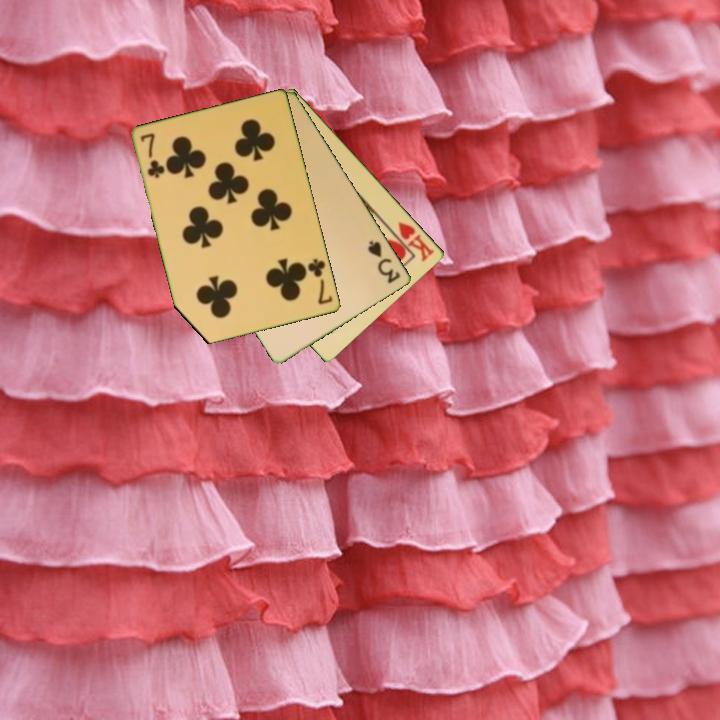3s: (364, 237, 404, 286)
7c: (304, 255, 336, 308), (137, 130, 167, 181)
Kh: (386, 218, 438, 265)
